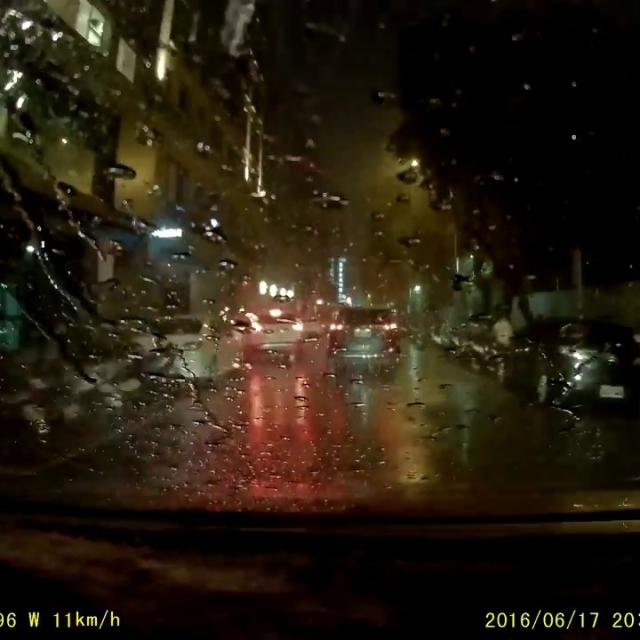Car: (492, 320, 639, 410), (136, 308, 244, 394), (328, 305, 399, 379), (243, 306, 303, 362)
